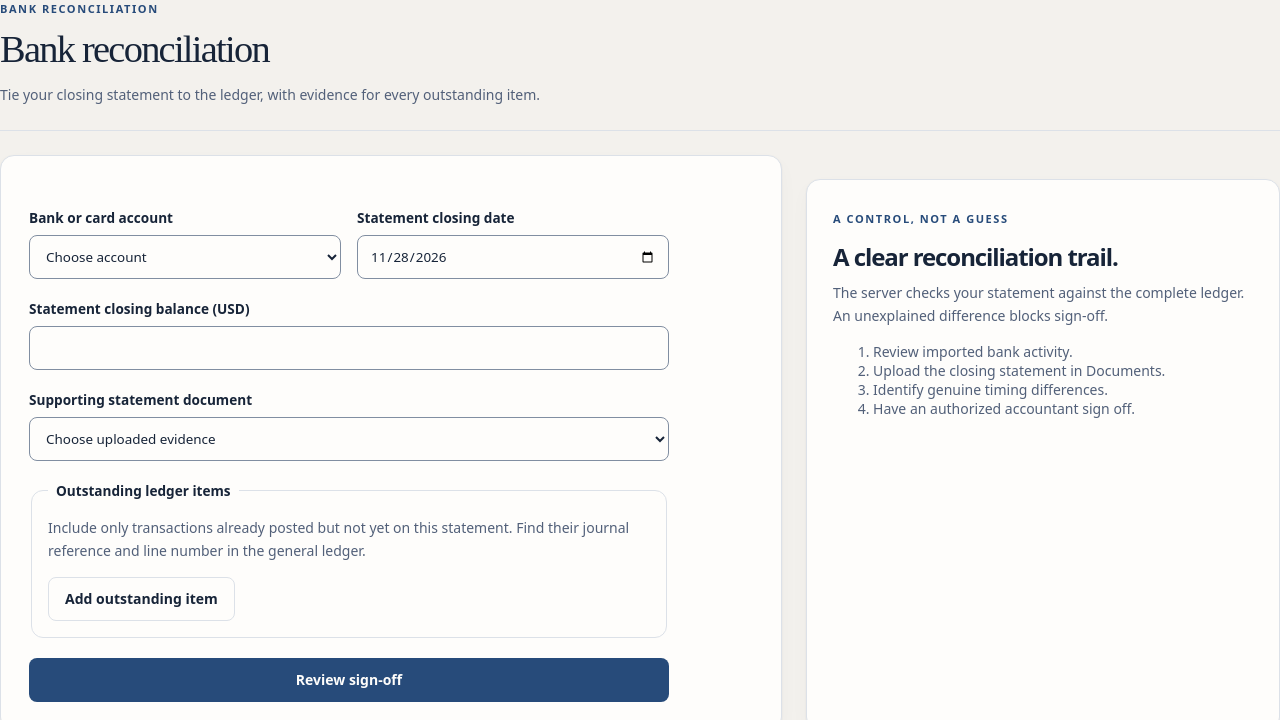
Test: Phase 6 screen journeys with isolated API doubles › blocks reconciliation approval when the server preview reports a difference
The width and height of the screenshot is (1280, 720).
Step 1. Select "Operating bank" in the dropdown labelled "Bank or card account" → (185, 257), box [29,235,341,279]
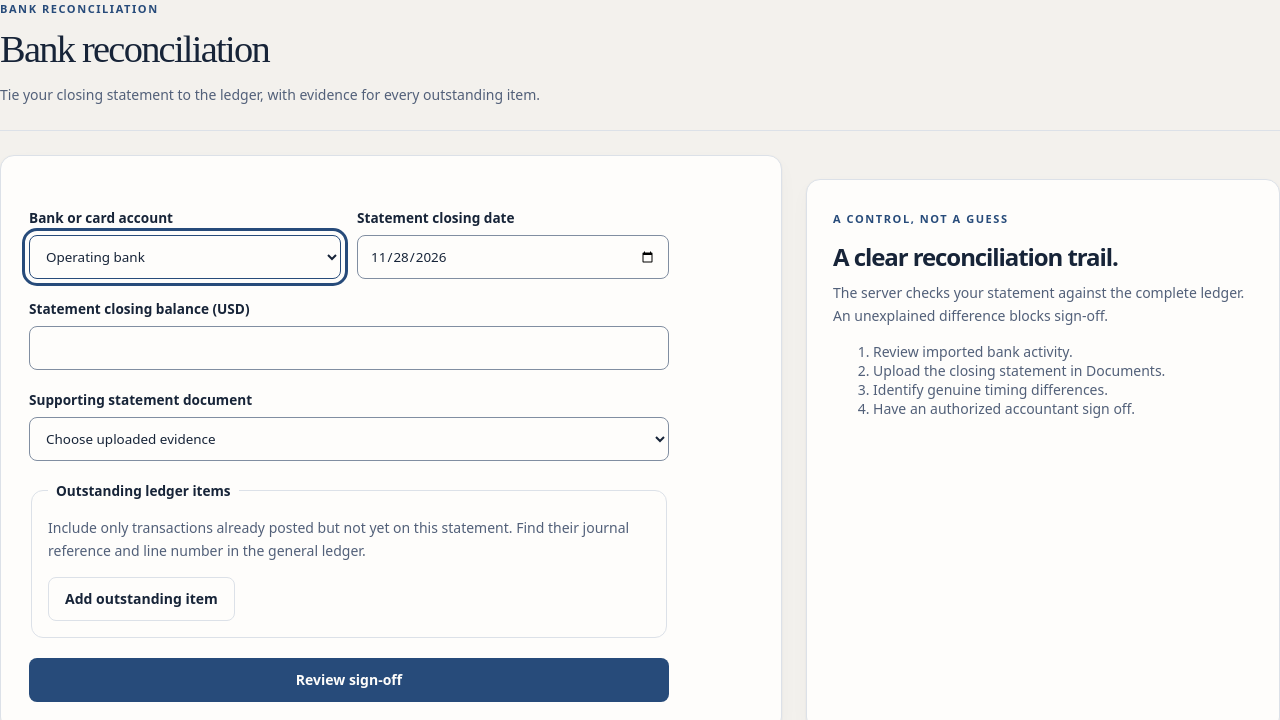
Step 2. Select "bank.csv · Clean" in the dropdown labelled "Supporting statement document" → (349, 439), box [29,417,669,461]
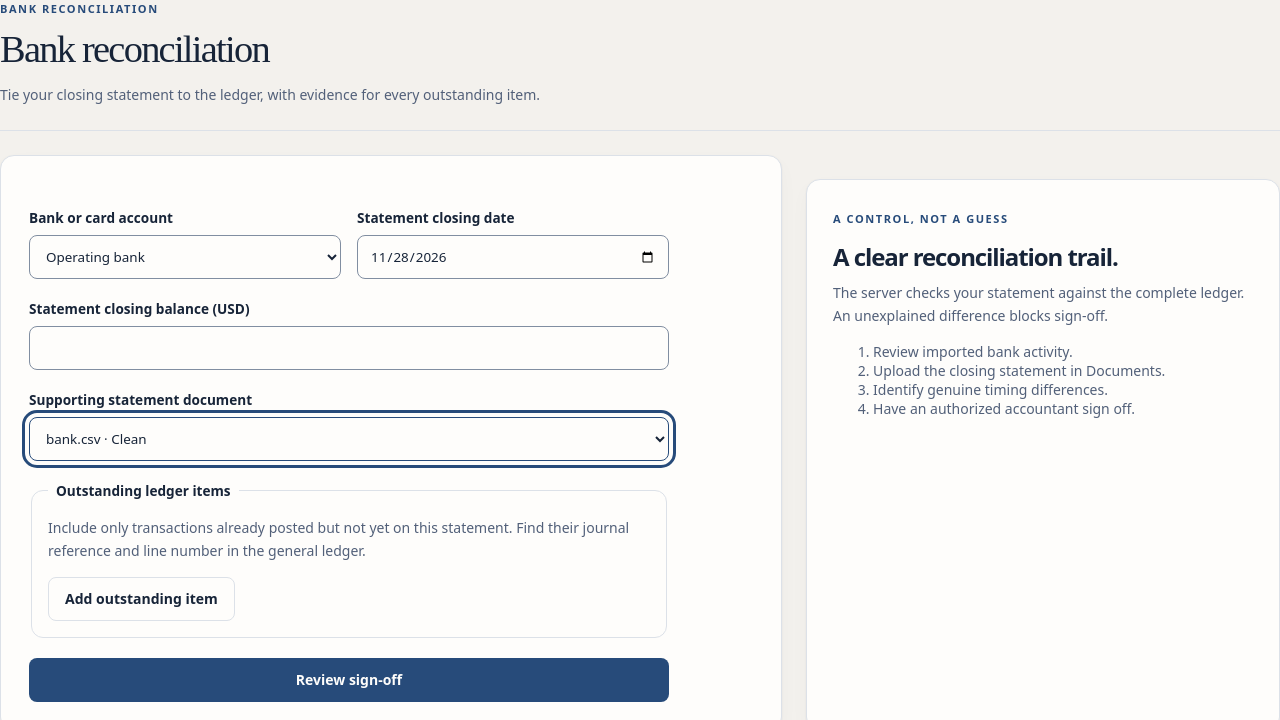
Step 3. Type "1" into the field labelled "Statement closing balance (USD)" → (349, 348), box [29,326,669,370]
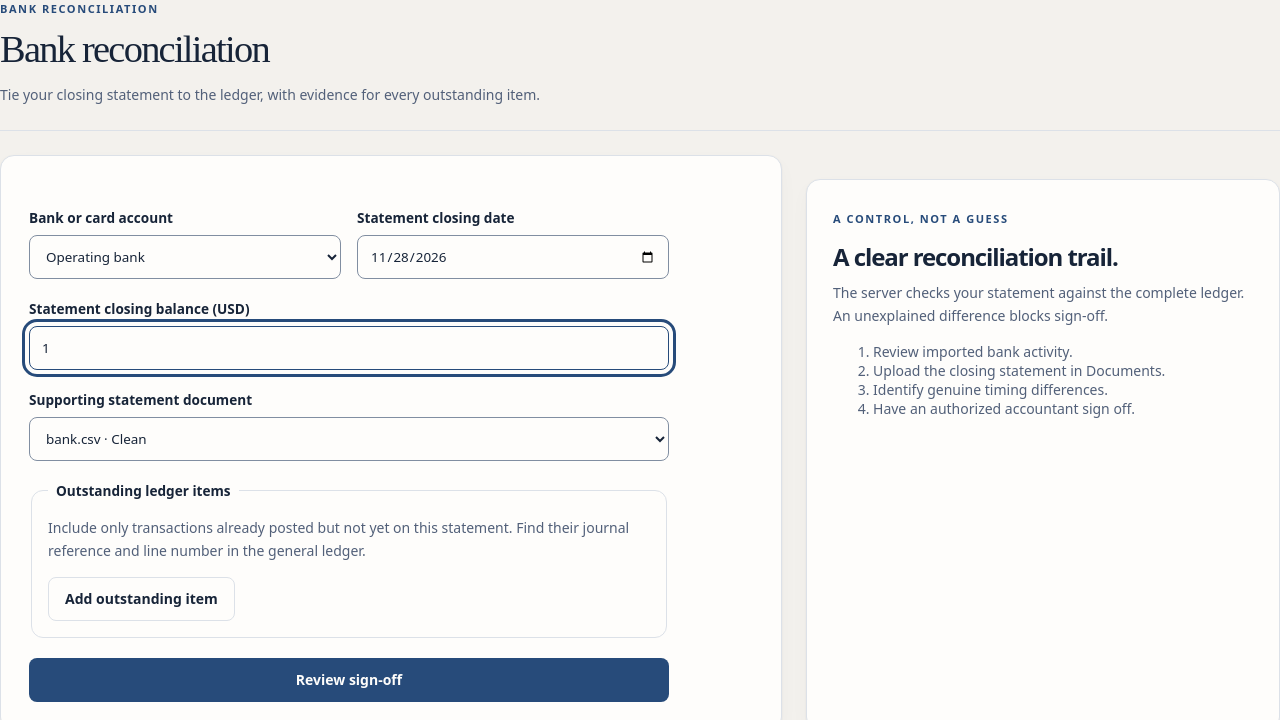
Step 4. Click the button "Review sign-off" → (349, 680), box [29,658,669,702]
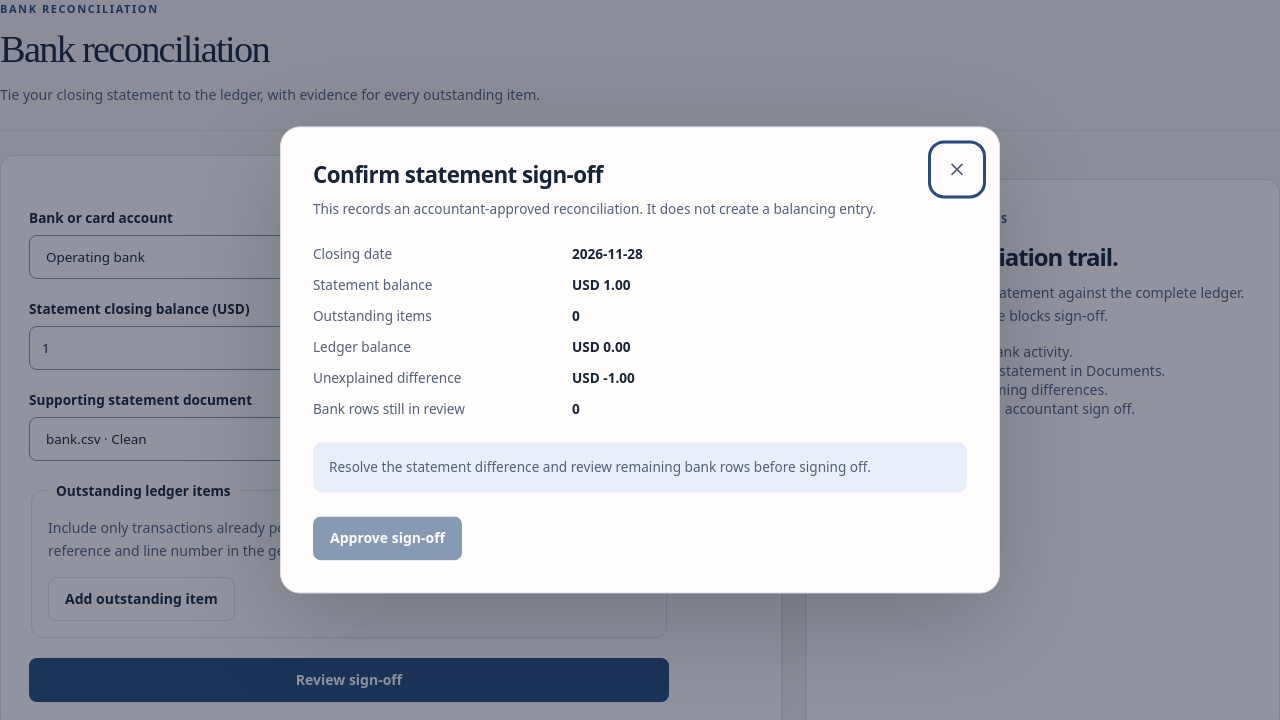
Result: the text "Resolve the statement difference" is shown at [329,458,871,477]
Result: the button "Approve sign-off" is disabled at [313,517,462,561]
